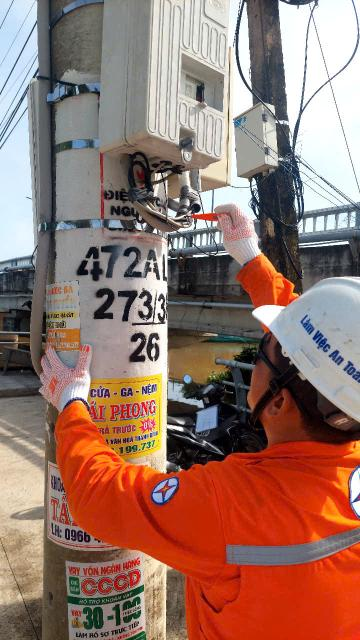gloves: (21, 335, 130, 405), (194, 195, 295, 267)
helmet: (229, 274, 360, 433)
